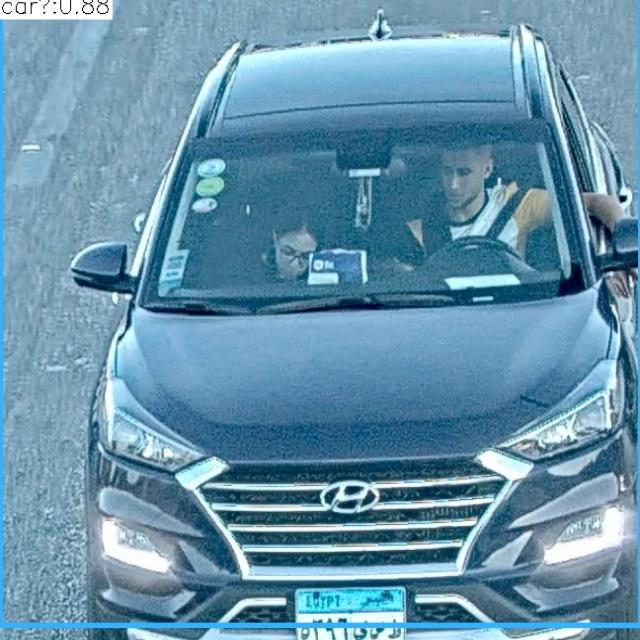windshield: (150, 121, 584, 307)
